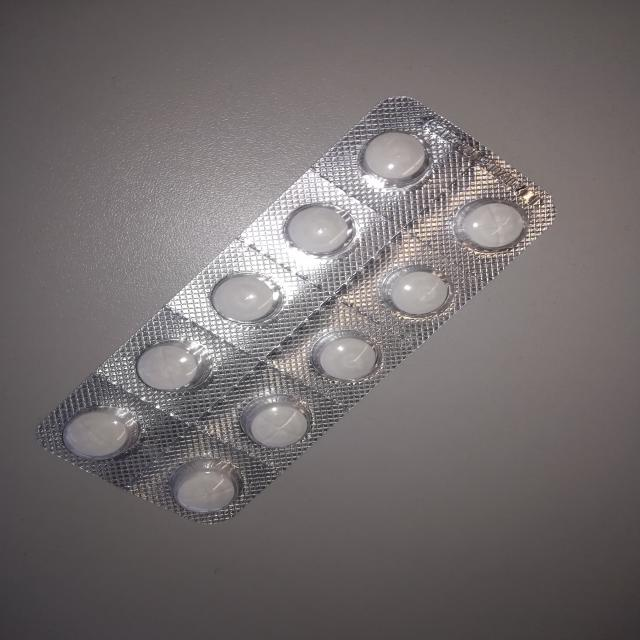Pill: (443, 194, 535, 256), (276, 197, 362, 256), (58, 403, 136, 468), (162, 457, 234, 522), (202, 264, 284, 321), (376, 263, 456, 321), (235, 397, 316, 453), (312, 332, 383, 392), (133, 336, 202, 394), (361, 131, 430, 187)
